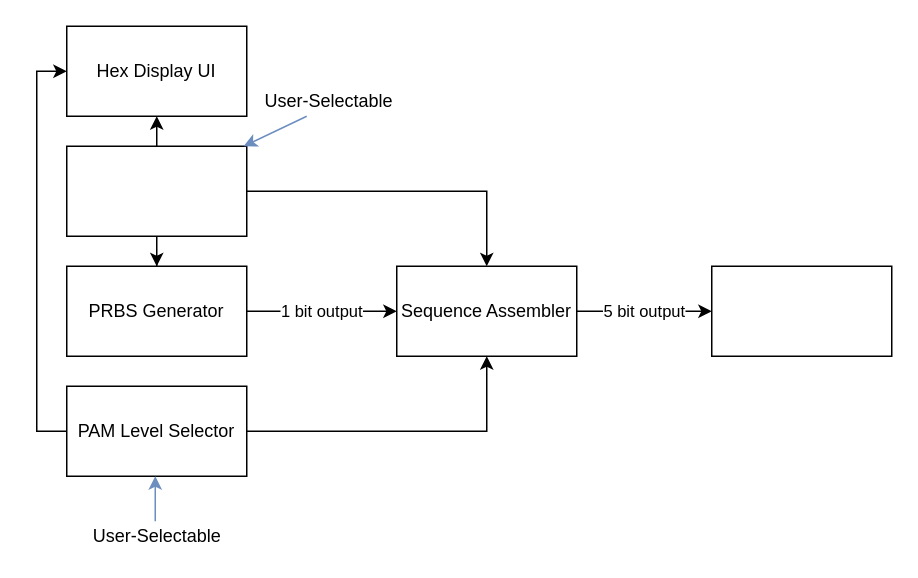
Image size: 918x578. Some labels were removed from this diagram. The box of each missing label's shape, as (x1, y1, x2, y2) in pixels:
Frequency Clock: (65, 145, 247, 236)
GPIO Output: (710, 265, 892, 356)
